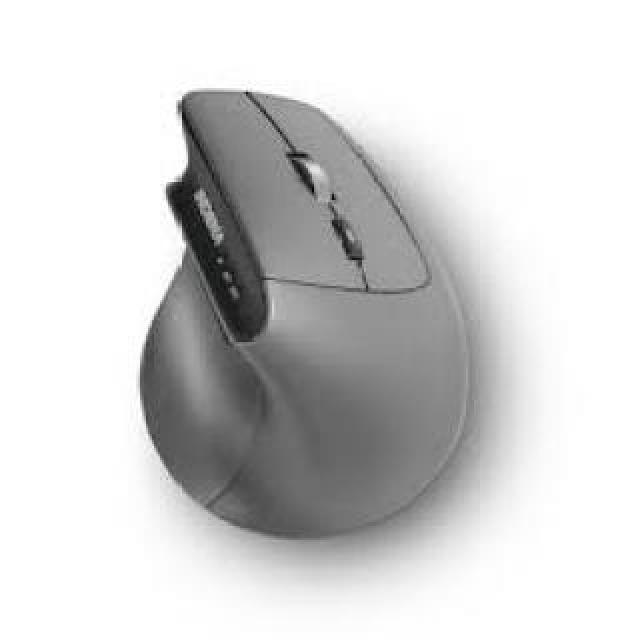mouse: (134, 80, 492, 545)
